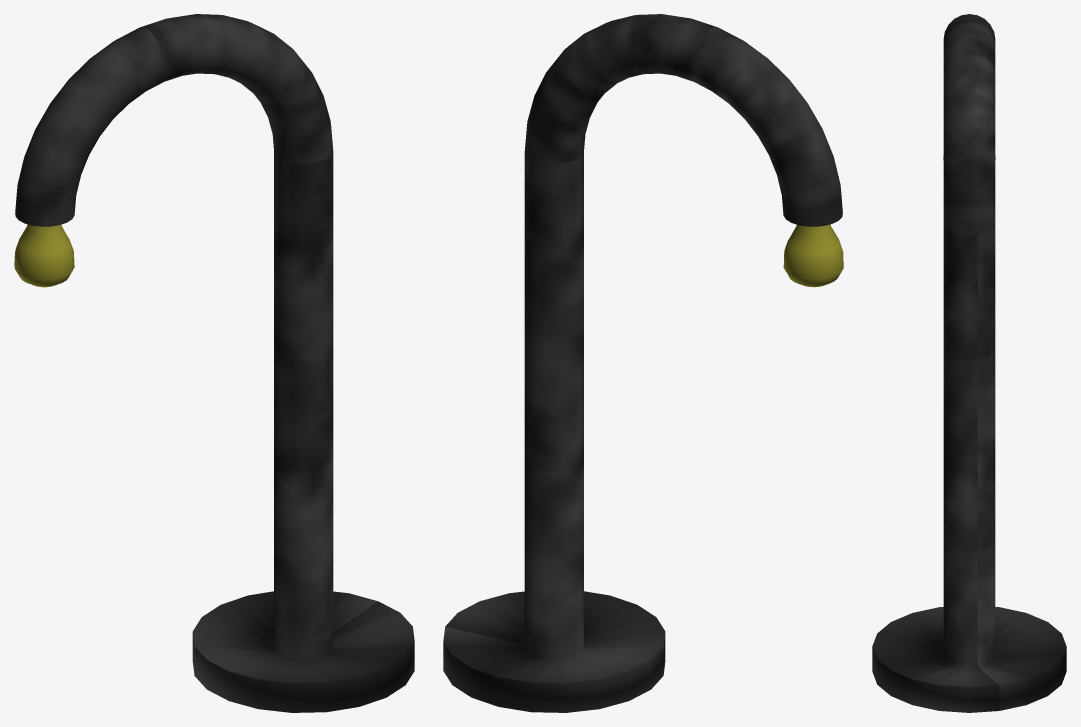
The model's file is post.obj.
The picture shows the model from 3 angles, left to right: view 1: azimuth 30°, elevation 25°; view 2: azimuth 150°, elevation 25°; view 3: azimuth 270°, elevation 25°; orthographic projection. The views are drawn at different scales.
Parts seen in each view (by area): view 1: polySurface1 pTorus2, pTorus2 polySurface2; view 2: polySurface1 pTorus2, pTorus2 polySurface2; view 3: polySurface1 pTorus2.
Part boxes in pixels (x1,y1,x2,y2): polySurface1 pTorus2: [15, 14, 414, 712]; pTorus2 polySurface2: [14, 224, 74, 287]; polySurface1 pTorus2: [443, 14, 842, 712]; pTorus2 polySurface2: [783, 224, 843, 287]; polySurface1 pTorus2: [872, 14, 1066, 712].
Bounding box in the file's own units: 2.95 × 5.01 × 1.49.
